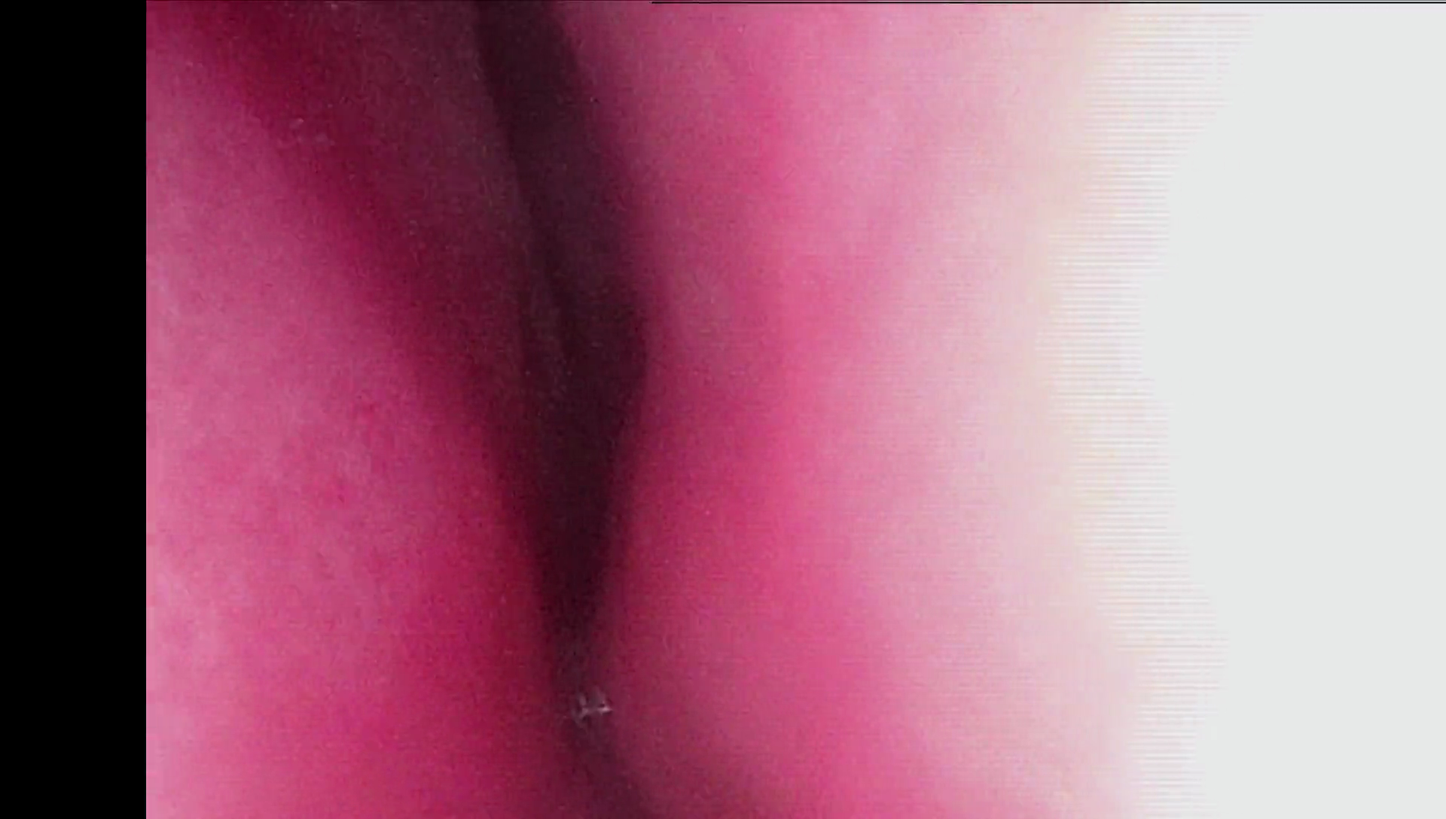close_wall: (809, 7, 1446, 819)
next: (420, 276, 725, 759), (462, 19, 670, 404)
